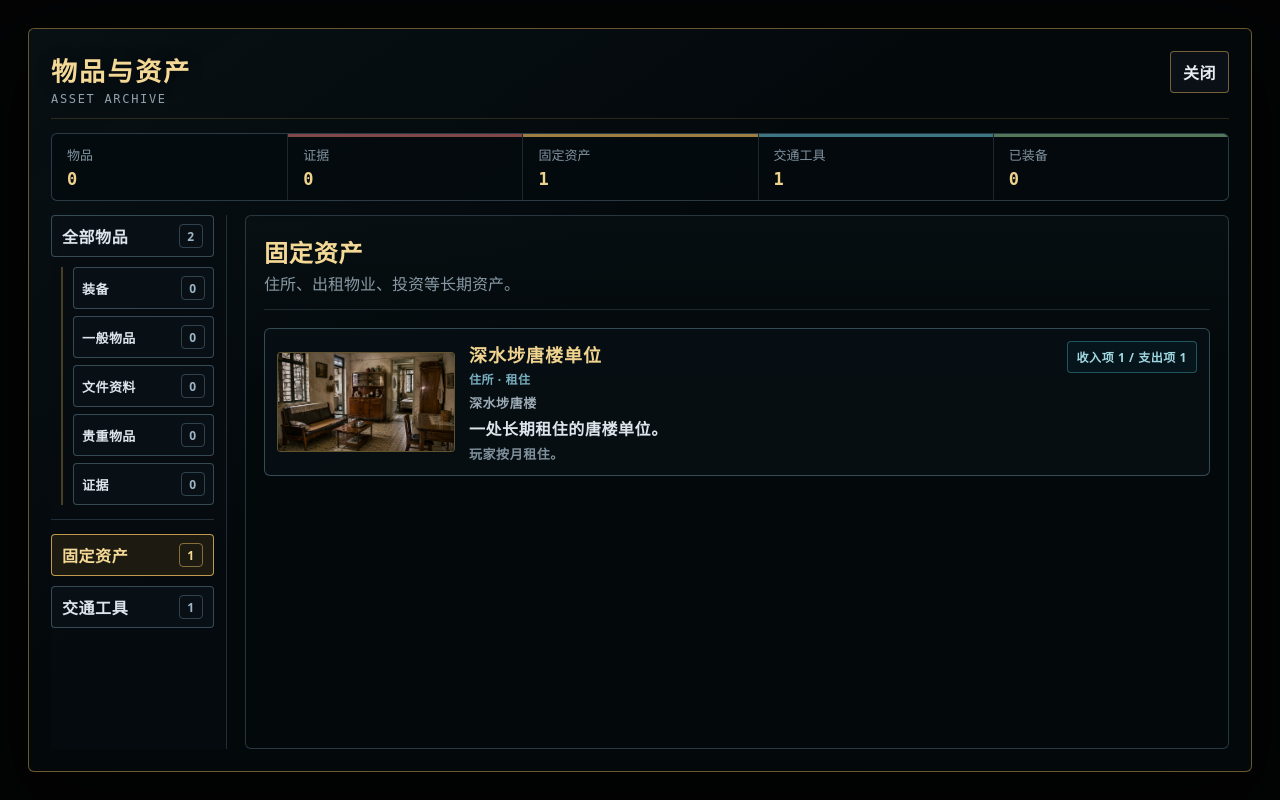
Scenario: AssetArchiveModal › keeps fixed assets and vehicles in independent overview/detail views
Expected: the element with class "asset-summary-strip" is shown, [51,133,1229,201]
Expected: the element with class "asset-property-thumb" is shown, [277,352,455,452]
Click the button "深水埗唐楼单位 住所 · 租住 深水埗唐楼 一处长期租住的唐楼单位。 玩家按月租住。 收入项 1 / 支出项 1".
click(366, 402)  # box [264,328,1210,476]
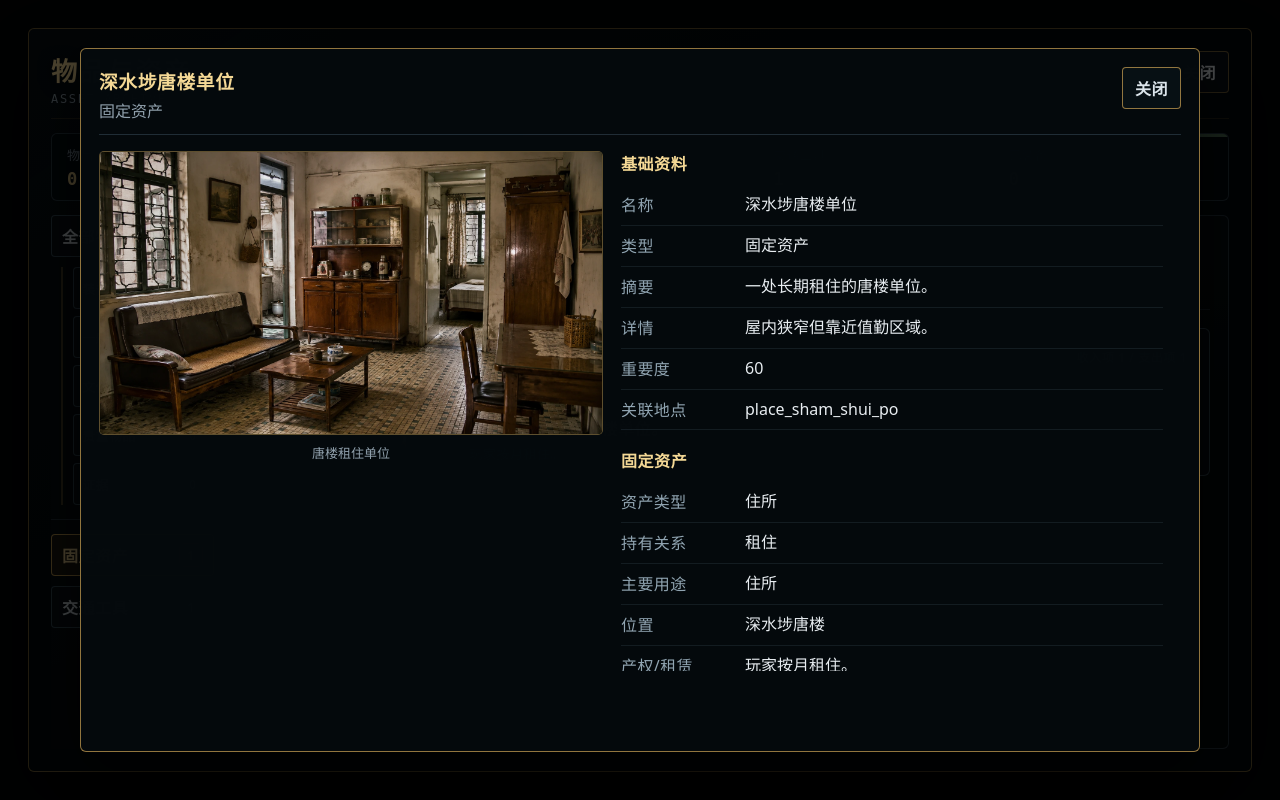
Now the element with class "asset-detail-layout--visual" is shown, box [99,151,1181,717]
Now the element labelled "唐楼租住单位" is shown, box [99,151,603,462]
Now the picture with class "asset-detail-visual-image" is shown, box [99,151,603,434]
Click the button "关闭".
click(1151, 88)  # box [1122,67,1181,109]
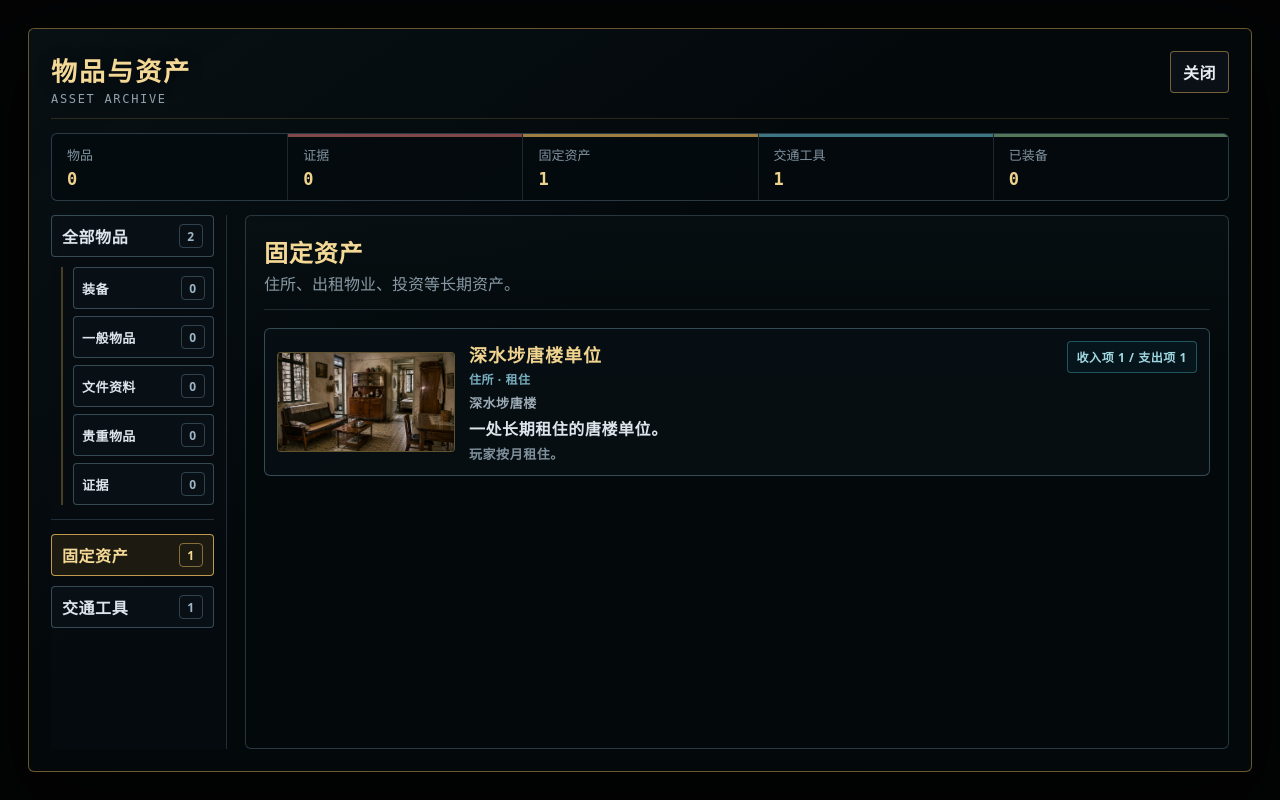
Click the button named "交通工具1".
click(132, 607)  # box [51,586,214,628]
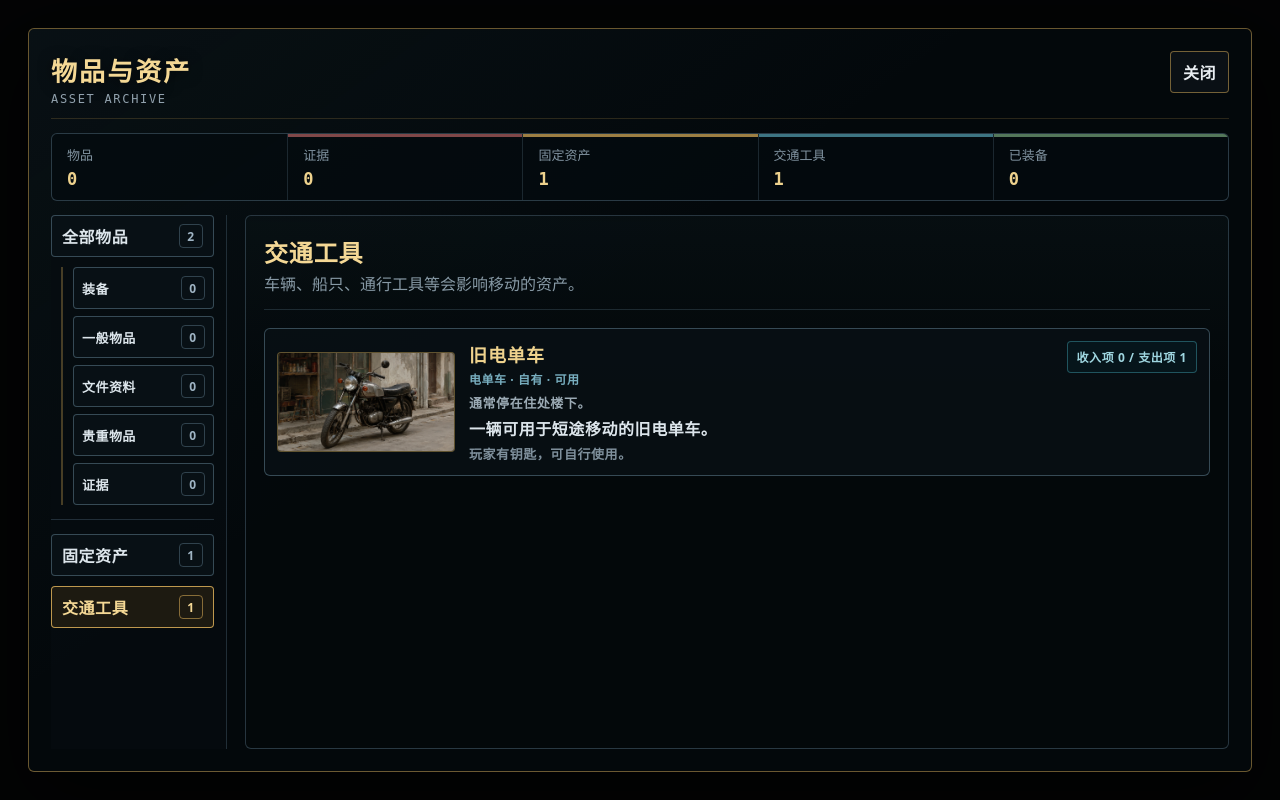
Click the button "旧电单车".
click(366, 402)  # box [264,328,1210,476]
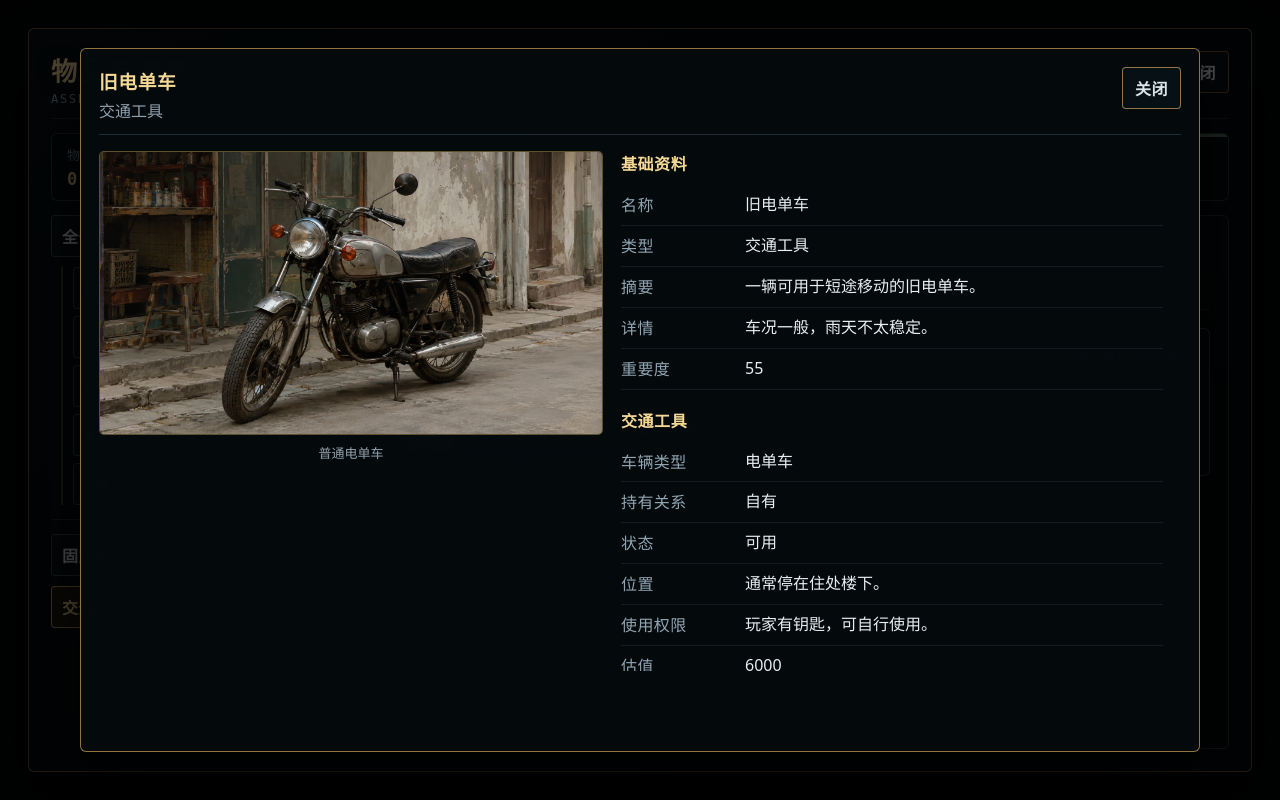
Now the element with class "asset-detail-layout--visual" is shown, box [99,151,1181,717]
Now the element labelled "普通电单车" is shown, box [99,151,603,462]
Now the picture with class "asset-detail-visual-image" is shown, box [99,151,603,434]
